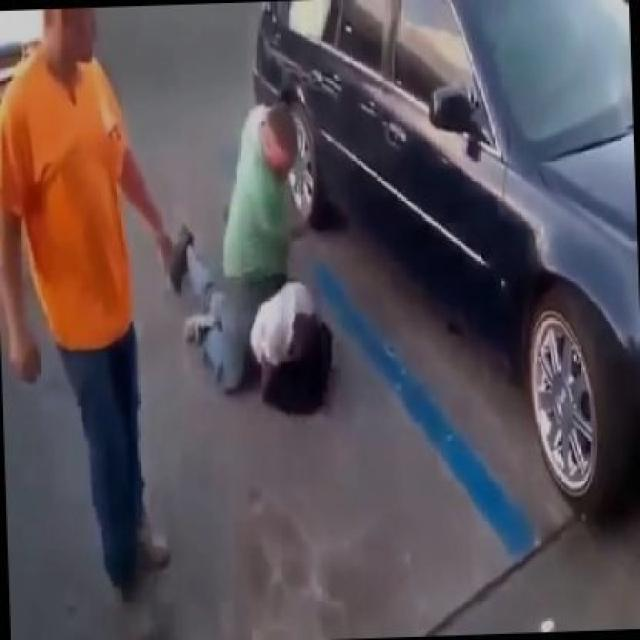fight: (187, 90, 346, 417)
non-fight: (0, 0, 234, 620)
